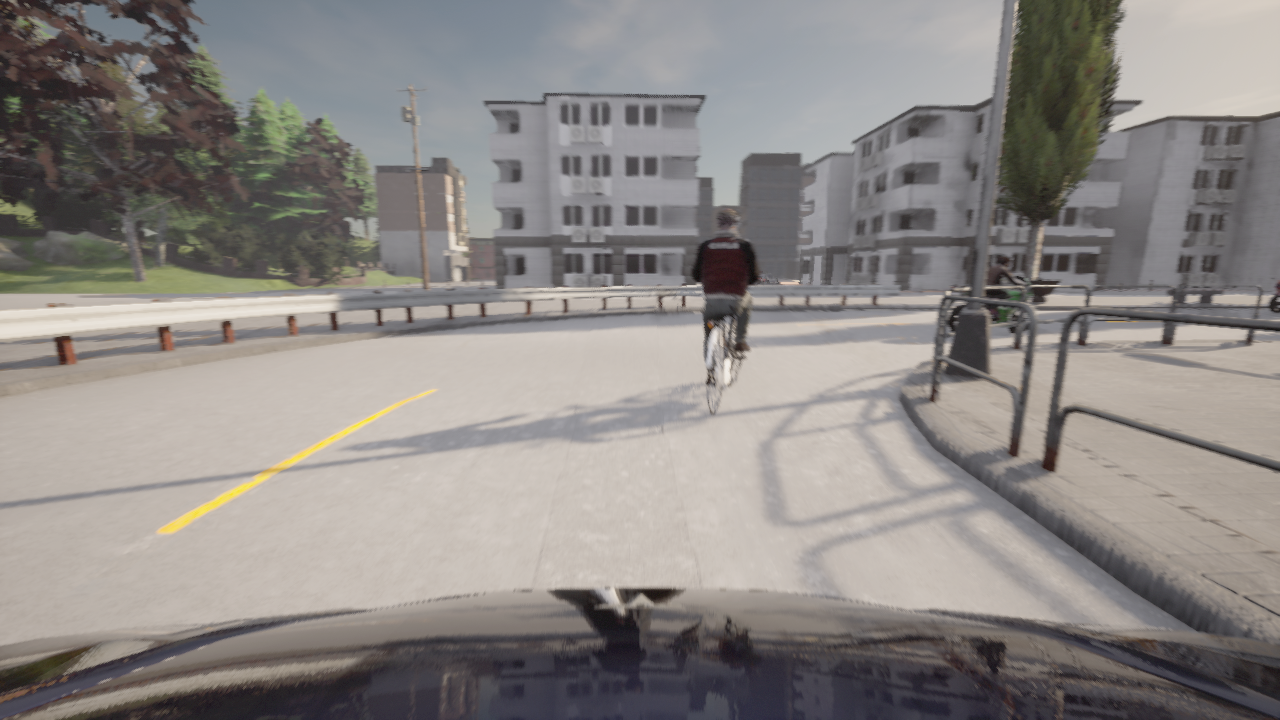cyclist: (0, 588, 1279, 719), (946, 275, 1041, 334), (704, 317, 745, 415), (1267, 277, 1279, 313), (753, 271, 779, 284), (759, 279, 762, 280)
